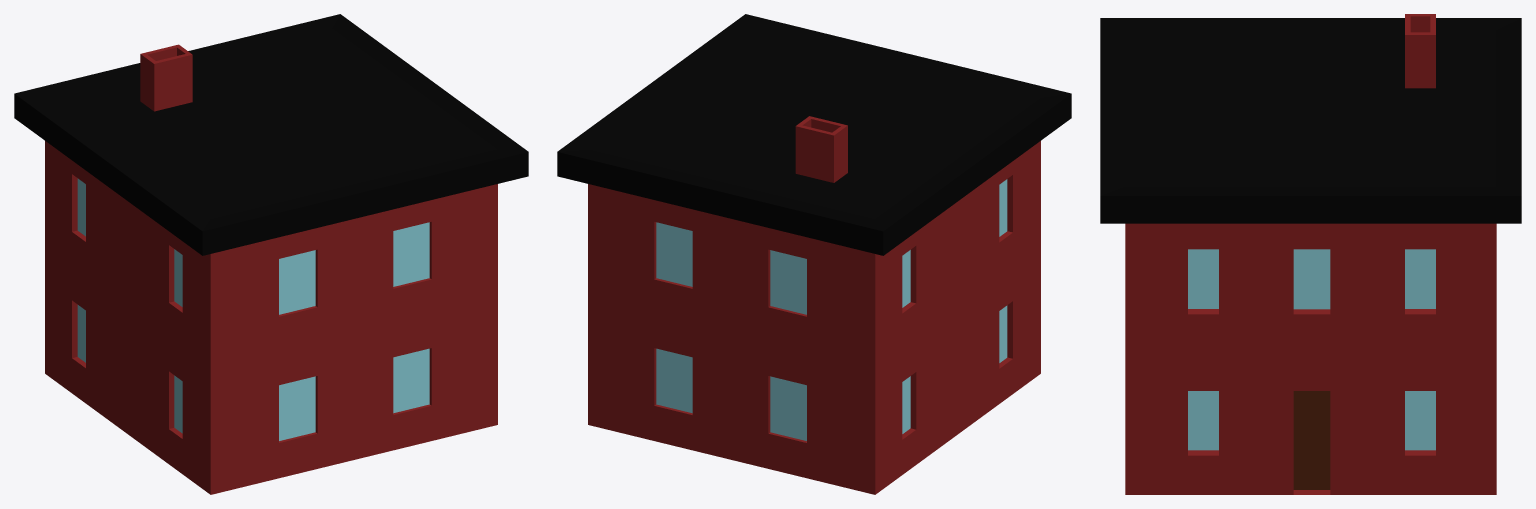
The model's file is Houses04.fbx.
The picture shows the model from 3 angles, left to right: view 1: azimuth 30°, elevation 25°; view 2: azimuth 150°, elevation 25°; view 3: azimuth 270°, elevation 25°; orthographic projection. The views are drawn at different scales.
Visible parts, largest first — view 1: Plane.004; view 2: Plane.004; view 3: Plane.004.
Part boxes in pixels (box(x1,y1,x2,y2)): Plane.004: box(14, 14, 528, 494); Plane.004: box(557, 14, 1071, 494); Plane.004: box(1100, 14, 1521, 494).
Bounding box in the file's own units: 400 × 378 × 400.
